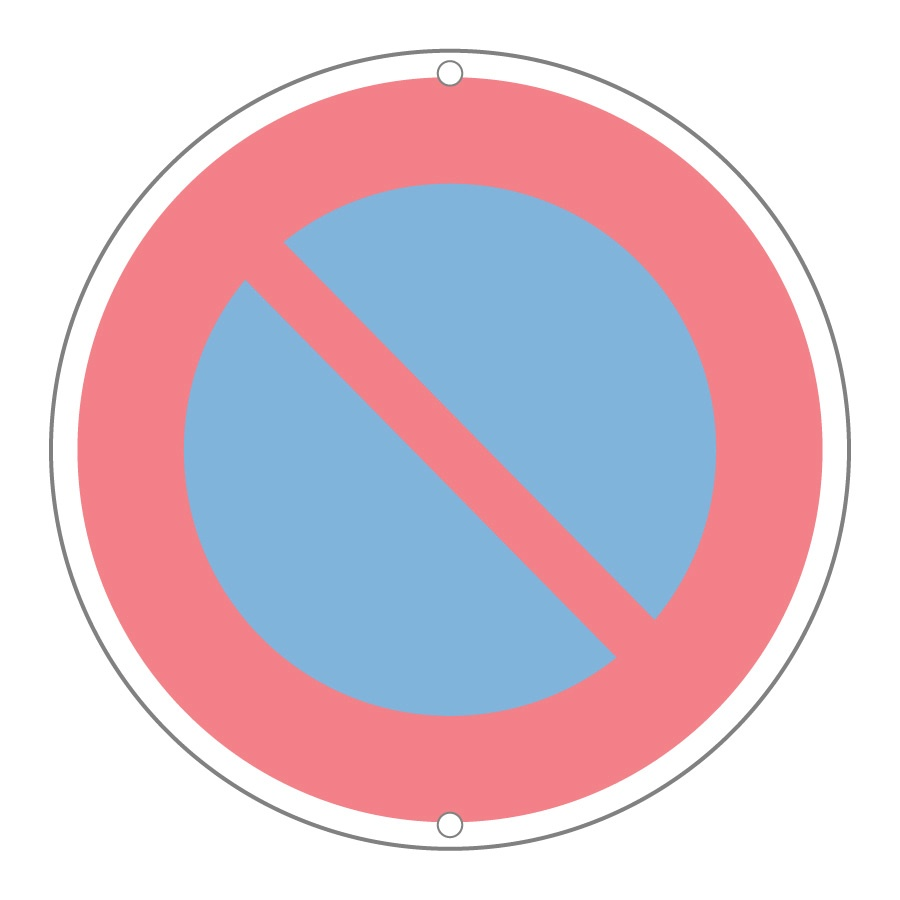Prohibition_sign: (9, 15, 863, 875)
